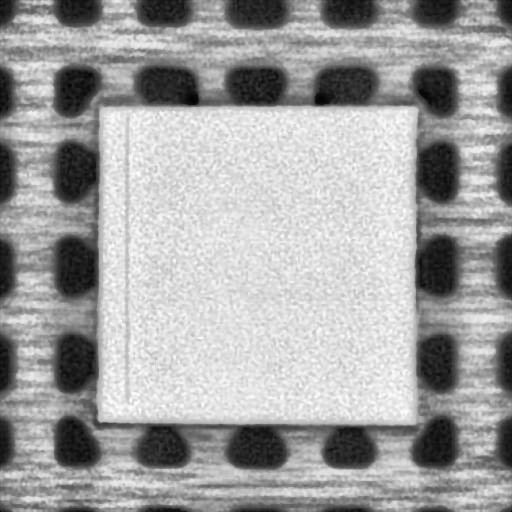DIE_CRACK: (116, 112, 136, 403)
